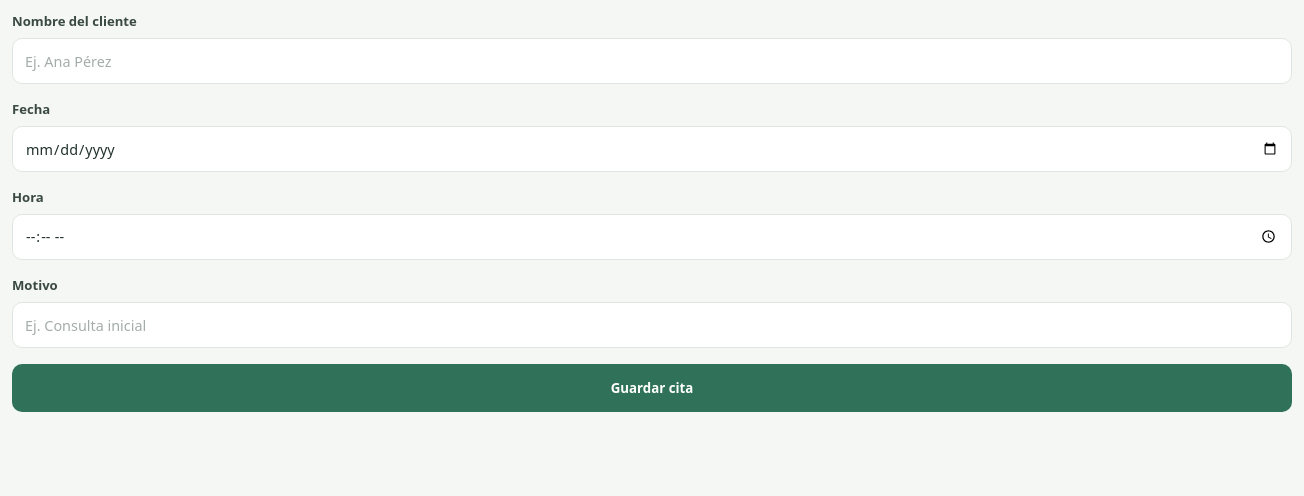
Test: AppointmentForm › clears the required-field message after a valid submission
The image size is (1304, 496).
Click the button "Guardar cita": click(652, 388) [12, 364, 1292, 412]
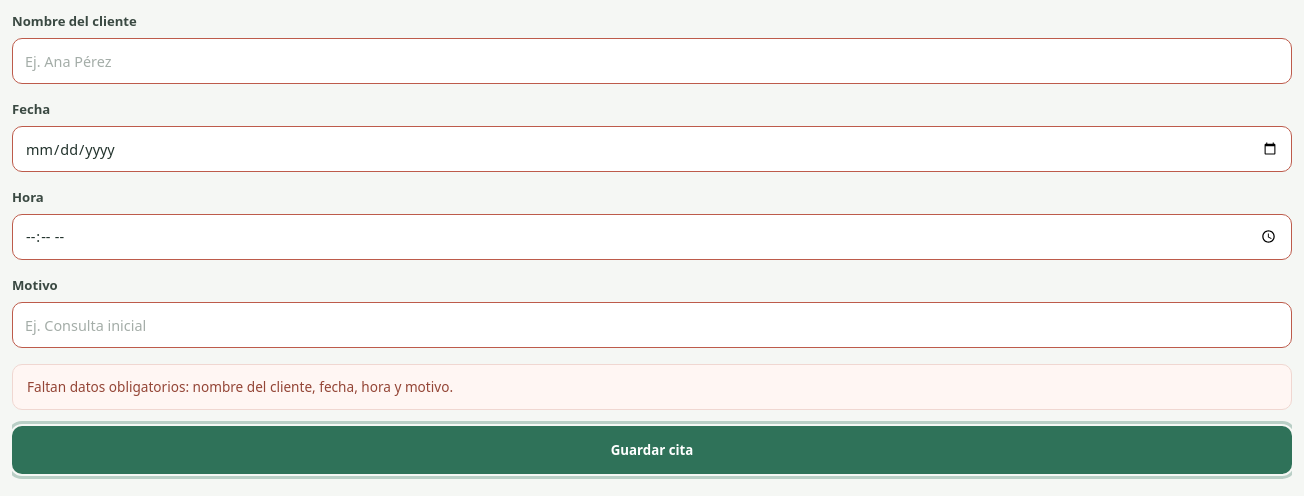
In the field labelled "Nombre del cliente": (652, 61) [12, 38, 1292, 84], type "Ana Pérez"
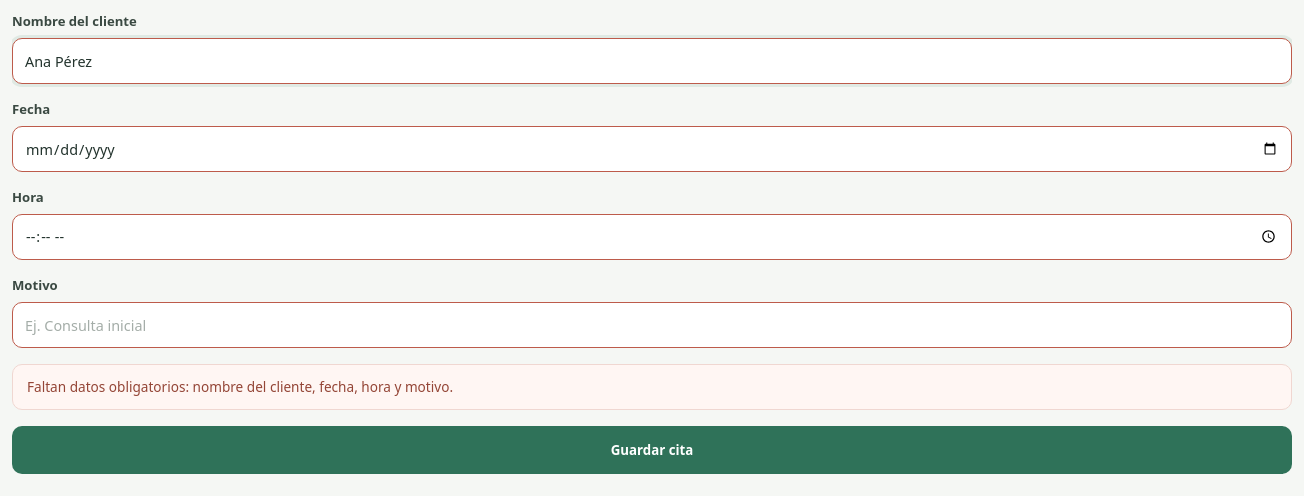
In the date field labelled "Fecha": (652, 149) [12, 126, 1292, 172], type "2030-05-12"
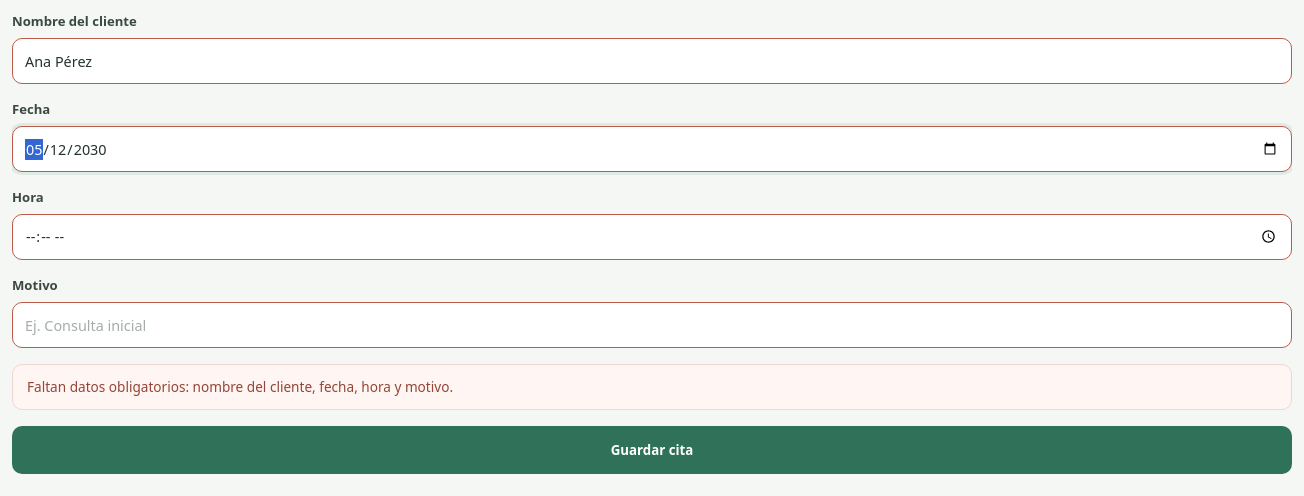
In the time field labelled "Hora": (652, 237) [12, 214, 1292, 260], type "09:30"
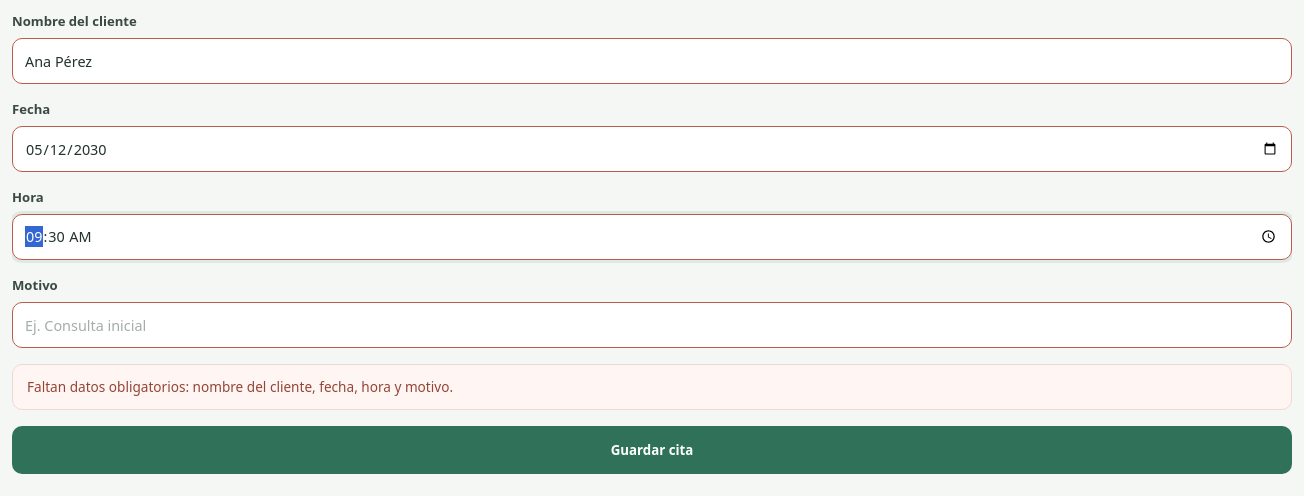
In the field labelled "Motivo": (652, 325) [12, 302, 1292, 348], type "Consulta inicial"
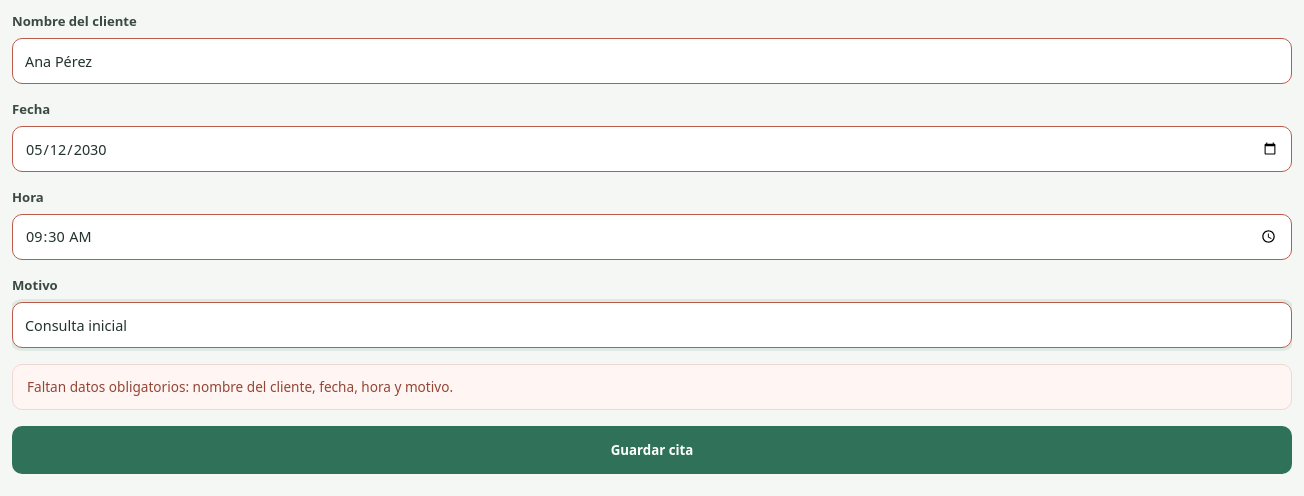
Click the button "Guardar cita": click(652, 450) [12, 426, 1292, 474]
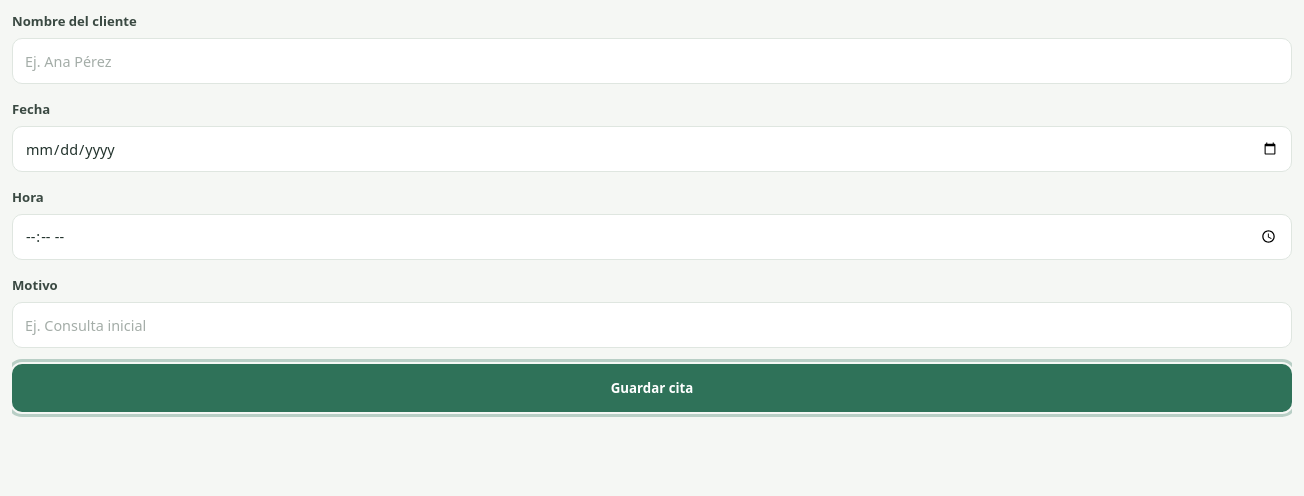
Expected: the message "Faltan datos obligatorios: nombre del cliente, fecha, hora y motivo." is gone
